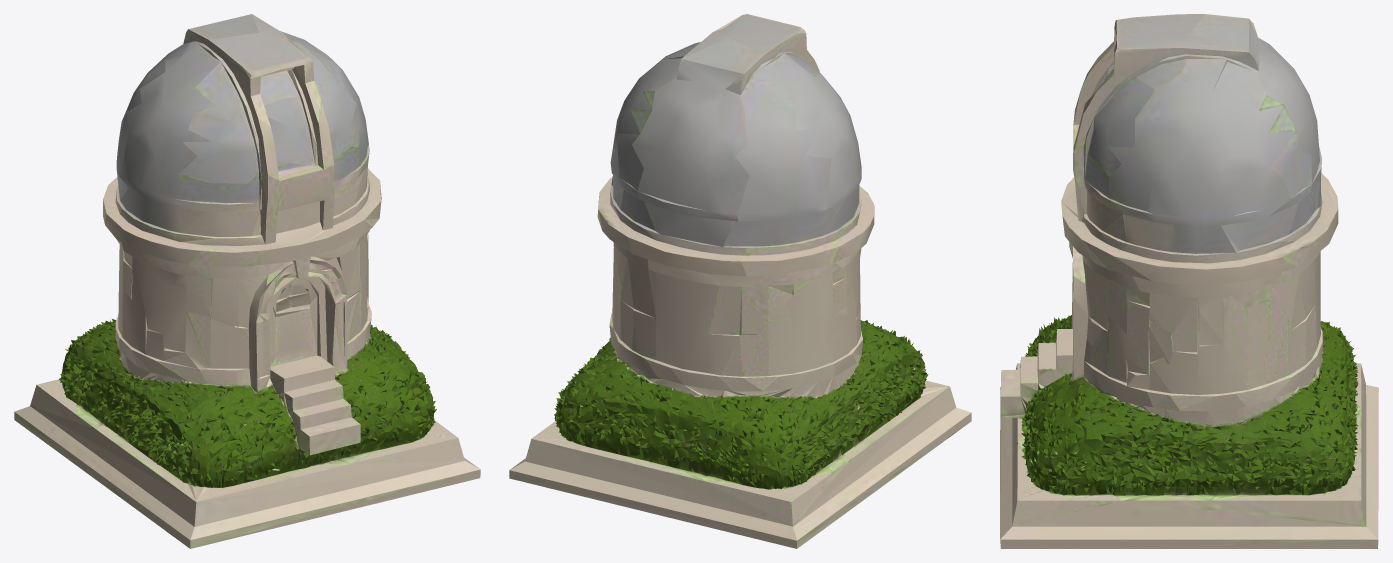
The model's file is lm_hill_observatory.glb.
3 views of the same model, side by side, from view 1: azimuth 30°, elevation 25°; view 2: azimuth 150°, elevation 25°; view 3: azimuth 270°, elevation 25° (orthographic). The views are drawn at different scales.
Size of the model in its own units: 1.4 by 1.9 by 1.47.
Materials: 1 (1 with a texture image).
